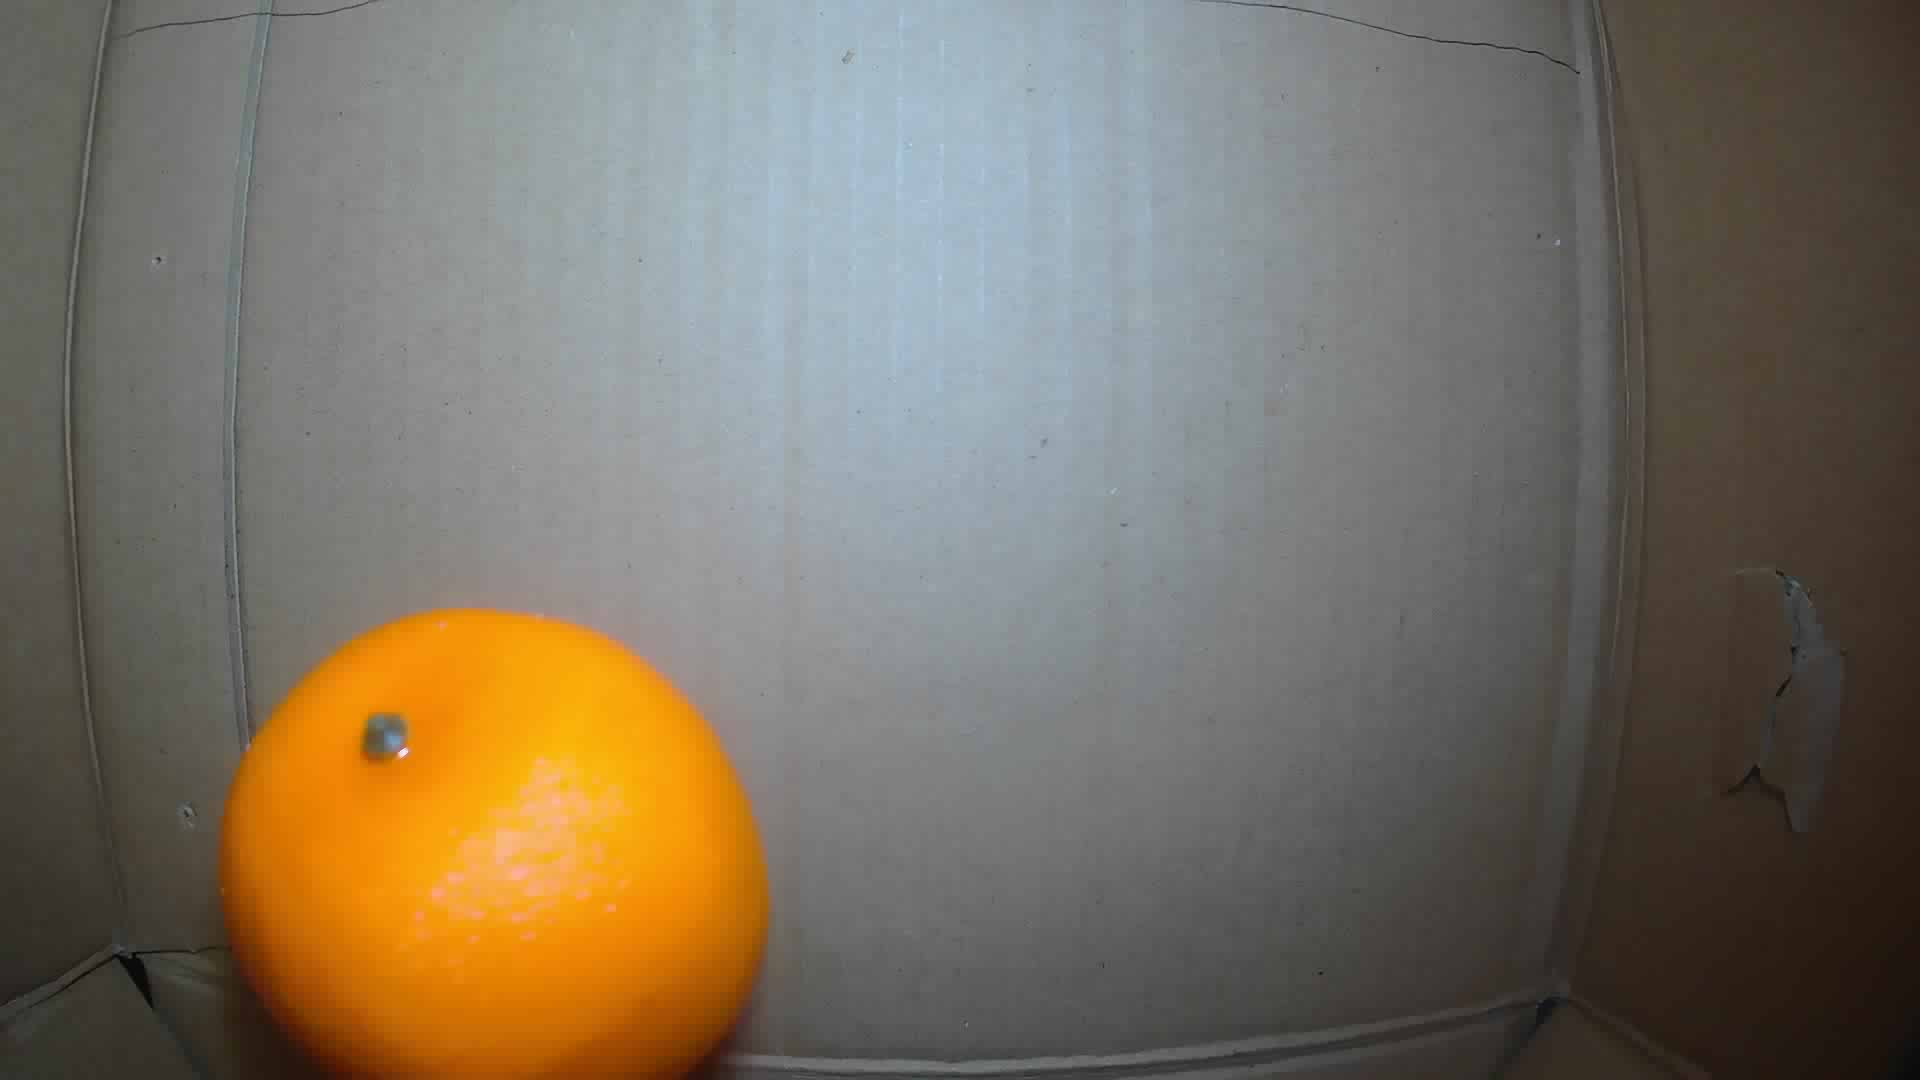orange: (222, 603, 767, 1080)
